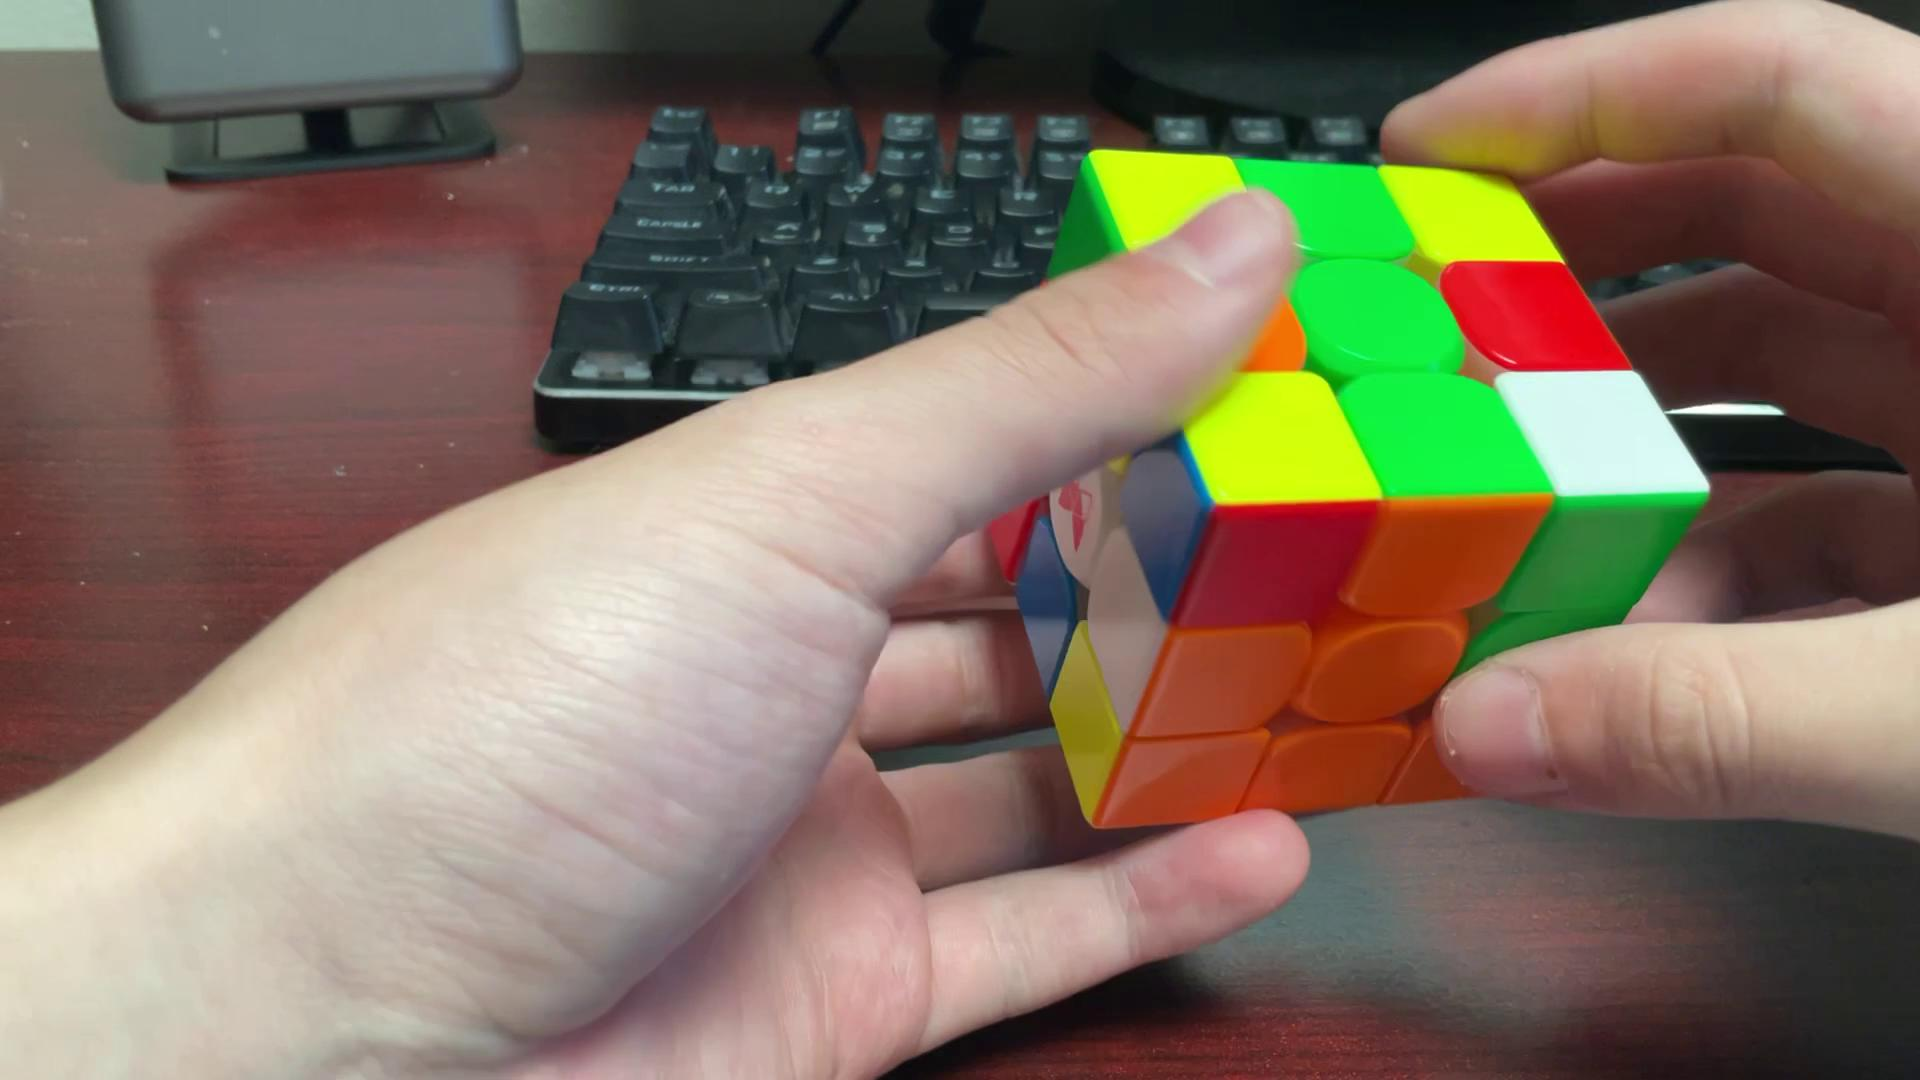Rubiks-Cube: (993, 138, 1722, 840)
